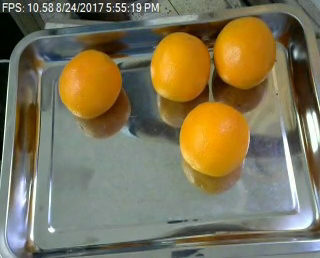Orange: (178, 101, 249, 177), (214, 15, 276, 89), (57, 48, 123, 117), (150, 31, 211, 102)
